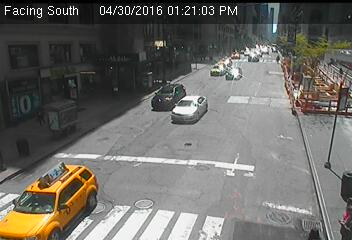neg: (256, 135, 274, 160), (44, 156, 60, 178), (324, 145, 340, 166), (61, 102, 76, 122), (189, 93, 201, 110), (211, 118, 223, 134), (12, 139, 23, 154), (130, 51, 140, 65), (274, 54, 283, 65), (335, 91, 344, 102), (71, 81, 79, 92), (300, 80, 308, 90), (236, 65, 242, 73)
pos: (333, 196, 351, 239), (30, 105, 46, 127), (309, 225, 318, 237), (338, 66, 347, 77)
